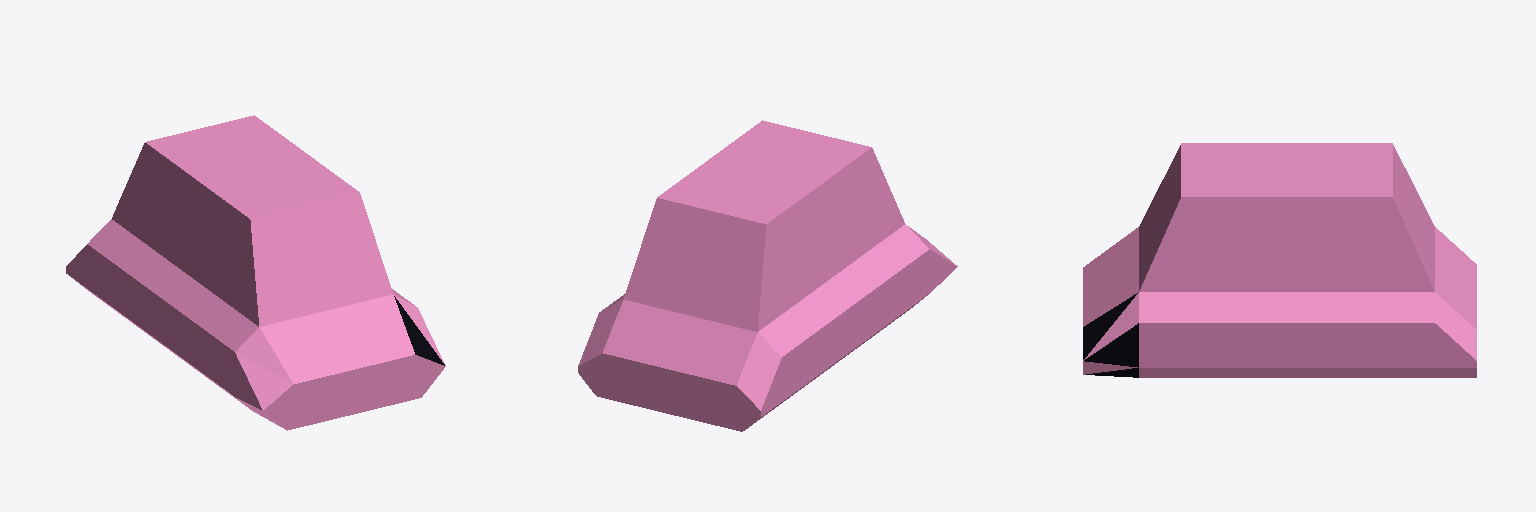
Rendered from vehicle_microcar_simple.obj.
3 renders of one model, left to right at view 1: azimuth 30°, elevation 25°; view 2: azimuth 150°, elevation 25°; view 3: azimuth 270°, elevation 25°, orthographic.
Bounding box in the file's own units: 1.5 × 1.35 × 2.8.